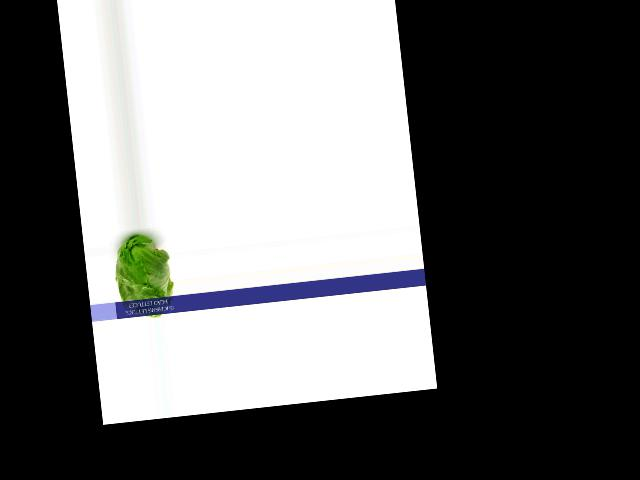lettuce: (113, 228, 176, 321)
